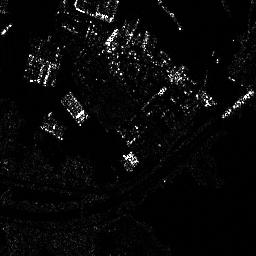ship: (222, 88, 255, 117)
